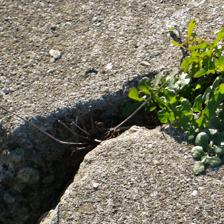Crack: (3, 78, 165, 222)
